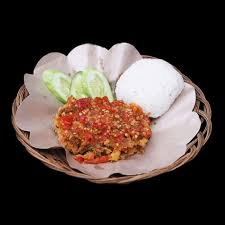ayam_geprek: (52, 95, 157, 168)
